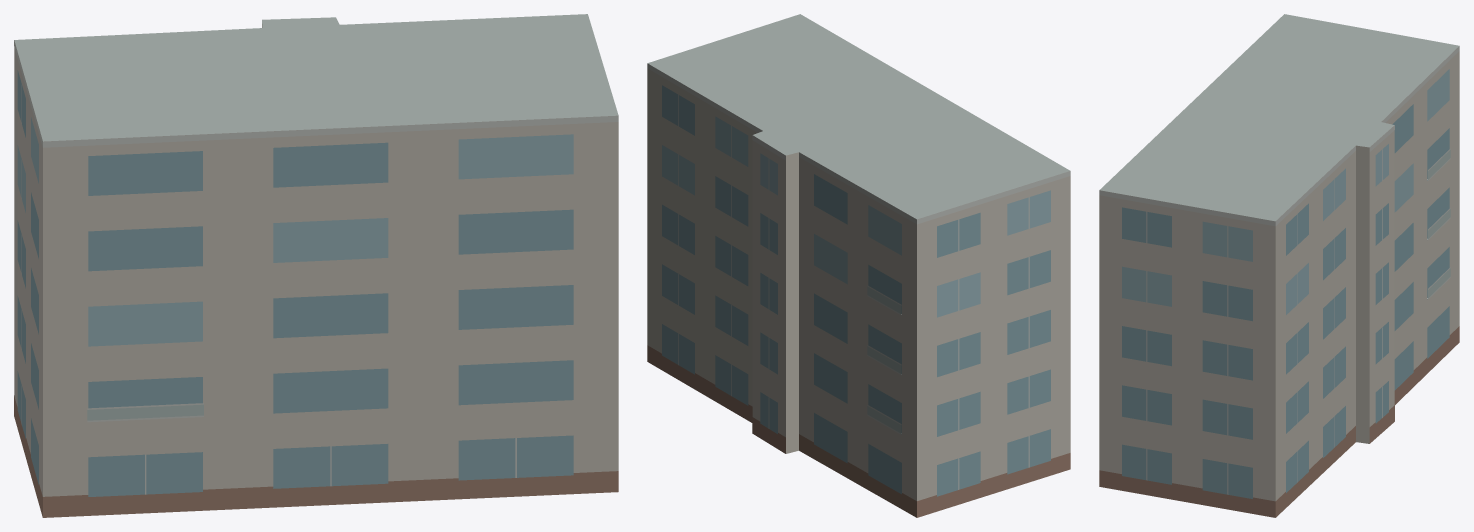
File: survey-upis-32968332.glb
3 renders of one model, left to right at view 1: azimuth 30°, elevation 25°; view 2: azimuth 150°, elevation 25°; view 3: azimuth 270°, elevation 25°, orthographic. The views are drawn at different scales.
Visible parts, largest first — view 1: survey-upis-32968332.tmp; view 2: survey-upis-32968332.tmp; view 3: survey-upis-32968332.tmp.
Boxes of the visible parts, <box> form: survey-upis-32968332.tmp: <box>14,14,618,517</box>; survey-upis-32968332.tmp: <box>647,14,1070,517</box>; survey-upis-32968332.tmp: <box>1099,14,1459,517</box>.
Size of the model in its own units: 21.75 by 14.5 by 15.98.
